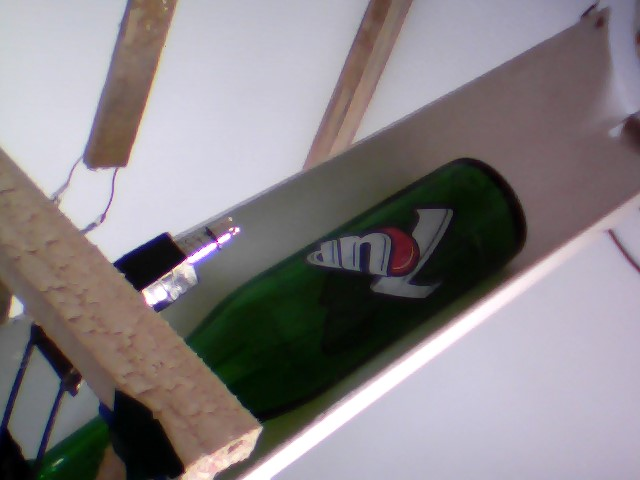vidrio: (170, 156, 534, 424)
